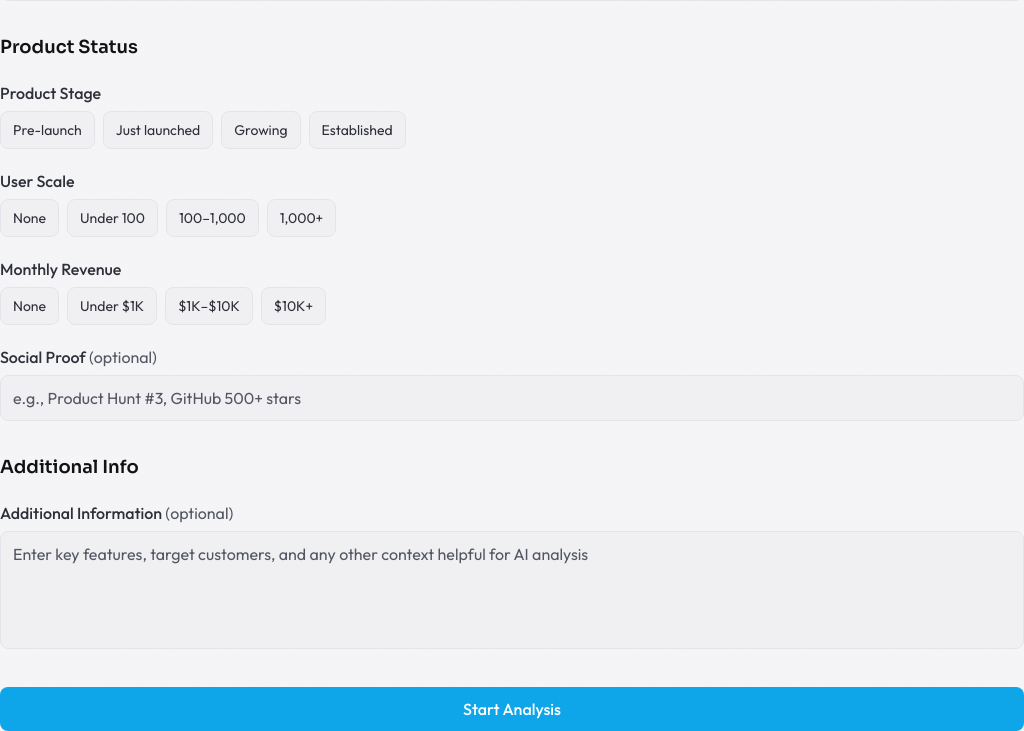
Test: ProductForm › validation › shows name validation error when submitting with empty name
(page scrolled)
What coordinates should you click on to do the following:
click the button "Start Analysis"
I would click on:
 (512, 709)
Its box is top-left (0, 687), bottom-right (1023, 730).
(page scrolled)
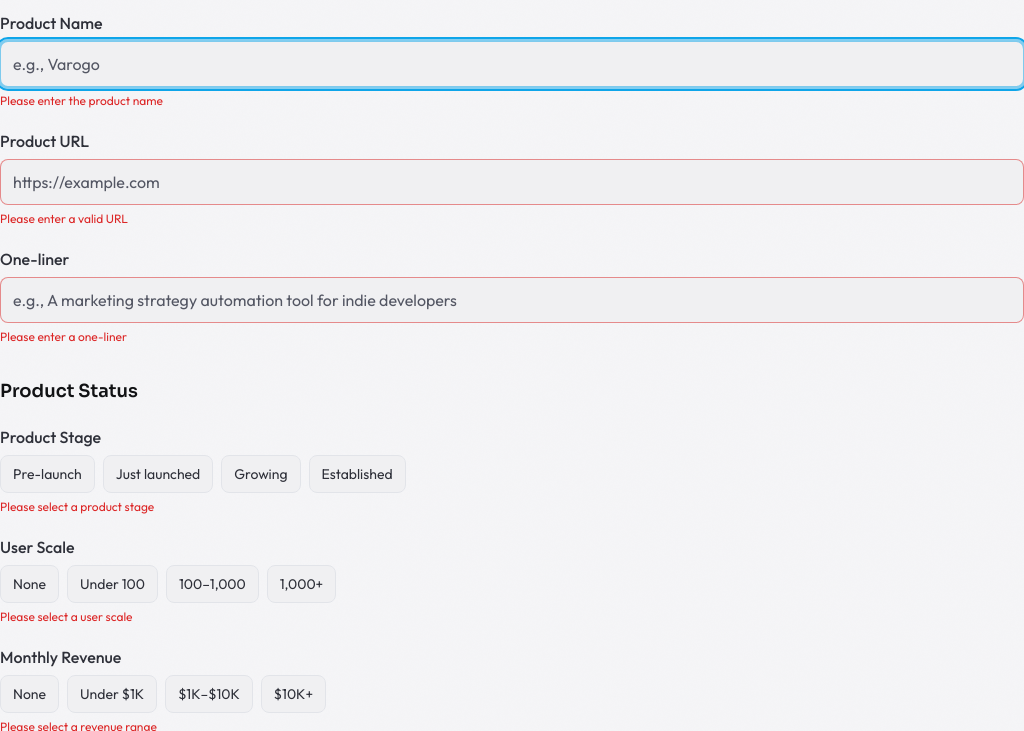
Now the text "Please enter the product name" is shown, box top-left (0, 93), bottom-right (163, 108)
